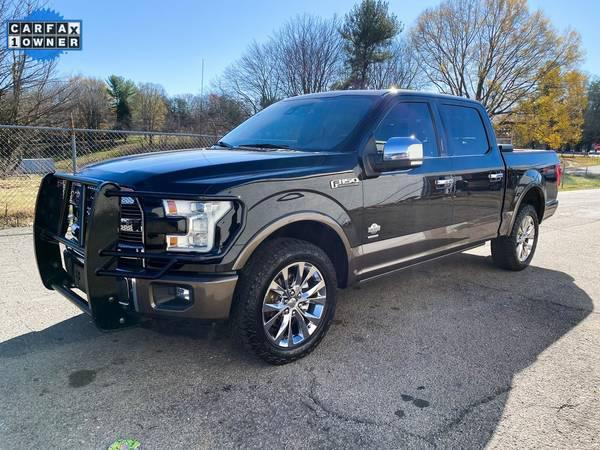Front_Bumper: (57, 246, 238, 321)
Front_Fender: (204, 168, 363, 286)
Front_Left_Door: (360, 156, 448, 280)
Front_Left_Window: (356, 101, 446, 166)
Front_Windshield: (214, 93, 385, 152)
Grille: (44, 169, 164, 268)
Hood: (72, 145, 359, 192)
Left_Headlight: (161, 194, 248, 264)
Rear_Fender: (499, 154, 559, 238)
Rear_Left_Door: (444, 150, 506, 252)
Rear_Left_Window: (435, 102, 494, 159)
Roof: (282, 86, 498, 154)
Wheel: (238, 236, 344, 363), (490, 201, 539, 270)
